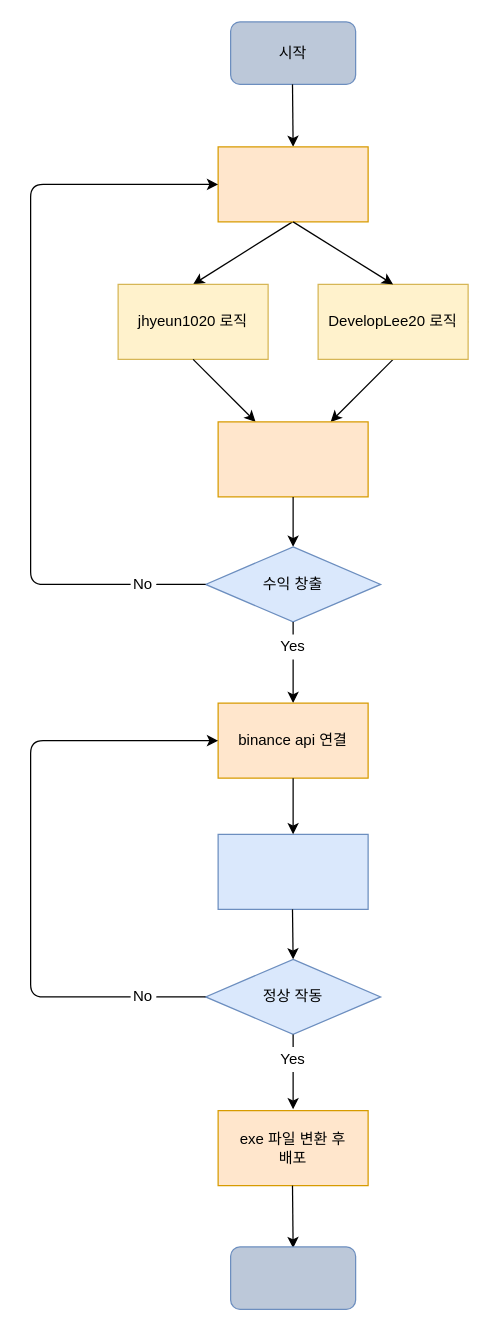
Some shapes in this 500 by 1331 pixel diagram are drawn without their labels. Here are the shapes that lost their labels. From the top down, the centre of each, then its label:
At [292,184]: "주식 구매 지표".
At [292,459]: "전년도 데이터로 모의 투자 실행".
At [292,871]: "현금 투자".
At [292,1277]: "종료".
